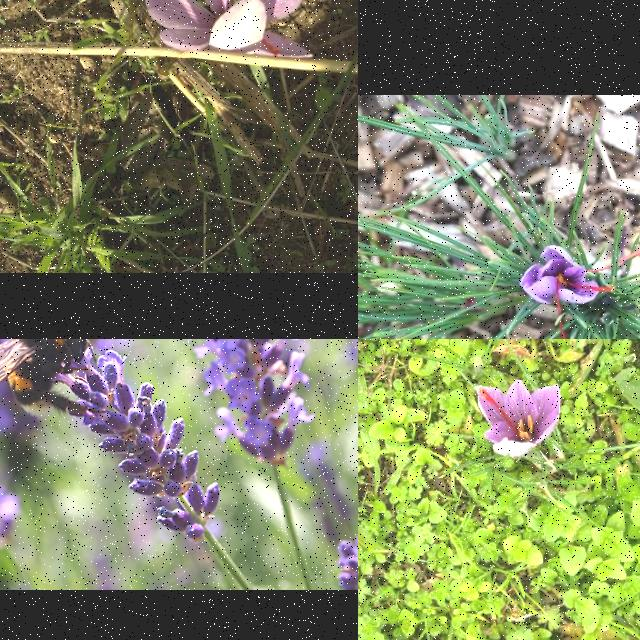flower: (519, 245, 640, 339), (145, 0, 313, 58), (474, 378, 562, 458)
